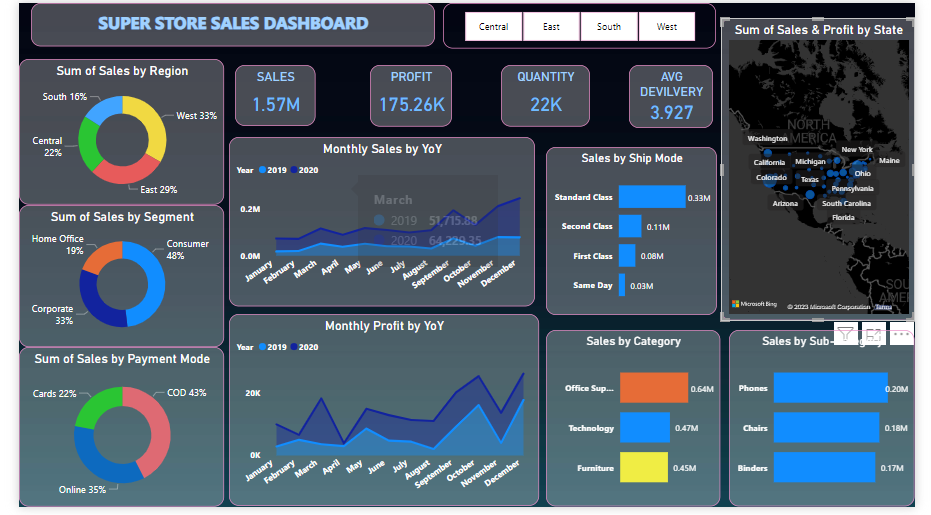

This screenshot's page, from the dashboard's own definition file:
{"tool":"powerbi","page":{"name":"Page 1","canvas":[1280,720],"ordinal":0},"visuals":[{"type":"clusteredBarChart","title":"Sales by Category","fields":{"Category":["SuperStore_Sales_Dataset.Category"],"Y":["Sum(SuperStore_Sales_Dataset.Sales)"]},"box":[753.1,466.6,249,251.7],"z":0,"group":"g5"},{"type":"clusteredBarChart","title":"Sales by Sub-Category","fields":{"Category":["SuperStore_Sales_Dataset.Sub-Category"],"Y":["Sum(SuperStore_Sales_Dataset.Sales)"]},"box":[1014.4,466.5,265.5,251.7],"z":1000,"group":"g5"},{"type":"clusteredBarChart","title":"Sales by Ship Mode","fields":{"Category":["SuperStore_Sales_Dataset.Ship Mode"],"Y":["Sum(SuperStore_Sales_Dataset.Sales)"]},"box":[753.1,205.1,244.5,240.3],"z":2000},{"type":"stackedAreaChart","title":"Monthly Sales by YoY","fields":{"Category":["SuperStore_Sales_Dataset.Order Date.Variation.Date Hierarchy.Month","SuperStore_Sales_Dataset.Order Date.Variation.Date Hierarchy.Day"],"Y":["Sum(SuperStore_Sales_Dataset.Sales)"],"Series":["SuperStore_Sales_Dataset.Order Date.Variation.Date Hierarchy.Year"]},"box":[300.6,191.7,437,241.7],"z":3000,"group":"g4"},{"type":"stackedAreaChart","title":"Monthly Profit by YoY","fields":{"Category":["SuperStore_Sales_Dataset.Order Date.Variation.Date Hierarchy.Month","SuperStore_Sales_Dataset.Order Date.Variation.Date Hierarchy.Day"],"Series":["SuperStore_Sales_Dataset.Order Date.Variation.Date Hierarchy.Year"],"Y":["Sum(SuperStore_Sales_Dataset.Profit)"]},"box":[301.2,445,442.6,274],"z":4000,"group":"g4"},{"type":"map","title":"Sum of Sales & Profit by State","fields":{"Category":["SuperStore_Sales_Dataset.State"],"Size":["Sum(SuperStore_Sales_Dataset.Sales)"]},"box":[1002.3,22,277.7,431.7],"z":5000},{"type":"donutChart","fields":{"Category":["SuperStore_Sales_Dataset.Segment"],"Y":["Sum(SuperStore_Sales_Dataset.Sales)"]},"box":[0,288.3,293.3,203.3],"z":6000,"group":"g3"},{"type":"donutChart","fields":{"Y":["Sum(SuperStore_Sales_Dataset.Sales)"],"Category":["SuperStore_Sales_Dataset.Payment Mode"]},"box":[0,491.7,293.3,228.3],"z":7000,"group":"g3"},{"type":"slicer","fields":{"Values":["SuperStore_Sales_Dataset.Region"]},"box":[606.5,0,390,65],"z":8000,"group":"g2"},{"type":"textbox","box":[17.8,0,576.7,61.7],"z":9000,"group":"g2"},{"type":"card","title":"SALES","fields":{"Values":["Sum(SuperStore_Sales_Dataset.Sales)"]},"box":[308.3,88.9,114.6,87.2],"z":10000,"group":"g1"},{"type":"card","title":"PROFIT","fields":{"Values":["Sum(SuperStore_Sales_Dataset.Profit)"]},"box":[501.1,88.9,116.7,88.3],"z":11000,"group":"g1"},{"type":"card","title":"AVG DEVILVERY","fields":{"Values":["Avg(SuperStore_Sales_Dataset.AvgDelivery)"]},"box":[871.1,88.3,120,90],"z":12000,"group":"g1"},{"type":"card","title":"QUANTITY","fields":{"Values":["Sum(SuperStore_Sales_Dataset.Quantity)"]},"box":[687.7,88.7,126.7,88.3],"z":13000,"group":"g1"},{"type":"group","id":"g1","title":"Group 1","box":[308.3,88.3,683.3,90],"z":13001},{"type":"group","id":"g2","title":"Group 2","box":[17.8,0,978.7,65],"z":13002},{"type":"donutChart","fields":{"Category":["SuperStore_Sales_Dataset.Region"],"Y":["Sum(SuperStore_Sales_Dataset.Sales)"]},"box":[0,80,293.3,208.3],"z":13003,"group":"g3"},{"type":"group","id":"g3","title":"Group 3","box":[0,80,293.3,640],"z":13004},{"type":"group","id":"g4","title":"Group 4","box":[300.6,191.7,443.2,527.3],"z":13005},{"type":"group","id":"g5","title":"Group 5","box":[753.1,466.5,526.9,251.5],"z":13006}]}

Visuals, with their boxes in screenshot pixels (x1, y1, x2, y2), scaled from the page's 1280x720 canvas onto the 931x515 screenshot:
"Sales by Category" clusteredBarChart: box=[548, 334, 729, 514]
"Sales by Sub-Category" clusteredBarChart: box=[738, 334, 930, 514]
"Sales by Ship Mode" clusteredBarChart: box=[548, 147, 726, 319]
"Monthly Sales by YoY" stackedAreaChart: box=[219, 137, 536, 310]
"Monthly Profit by YoY" stackedAreaChart: box=[219, 318, 541, 514]
"Sum of Sales & Profit by State" map: box=[729, 16, 930, 325]
donutChart - SuperStore_Sales_Dataset.Segment x Sum(SuperStore_Sales_Dataset.Sales): box=[0, 206, 213, 352]
donutChart - Sum(SuperStore_Sales_Dataset.Sales) x SuperStore_Sales_Dataset.Payment Mode: box=[0, 352, 213, 514]
slicer - SuperStore_Sales_Dataset.Region: box=[441, 0, 725, 46]
textbox: box=[13, 0, 432, 44]
"SALES" card: box=[224, 64, 308, 126]
"PROFIT" card: box=[364, 64, 449, 127]
"AVG DEVILVERY" card: box=[634, 63, 721, 128]
"QUANTITY" card: box=[500, 63, 592, 127]
"Group 1" group: box=[224, 63, 721, 128]
"Group 2" group: box=[13, 0, 725, 46]
donutChart - SuperStore_Sales_Dataset.Region x Sum(SuperStore_Sales_Dataset.Sales): box=[0, 57, 213, 206]
"Group 3" group: box=[0, 57, 213, 514]
"Group 4" group: box=[219, 137, 541, 514]
"Group 5" group: box=[548, 334, 930, 514]
